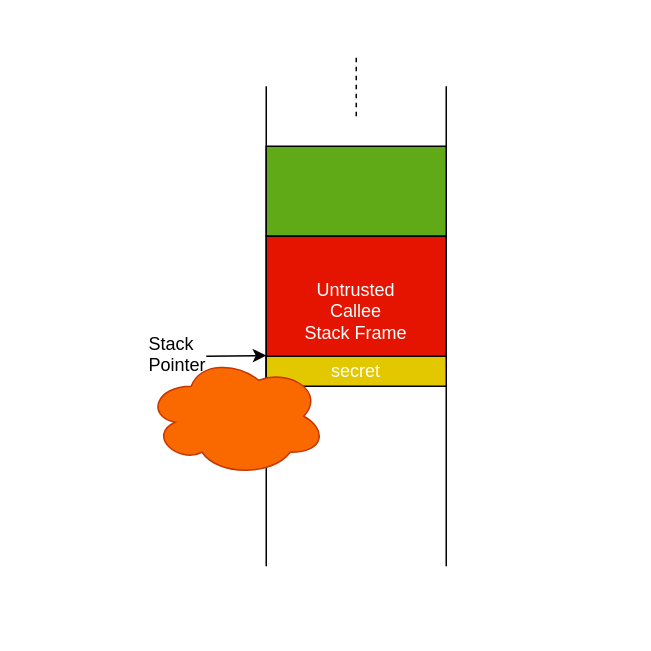
Some shapes in this 651 by 651 pixel diagram are drawn without their labels. Each missing label, with the centre of its shape:
Caller Stack Frame: the point at 355,190
Untrusted Callee can read the secret: the point at 235,415
